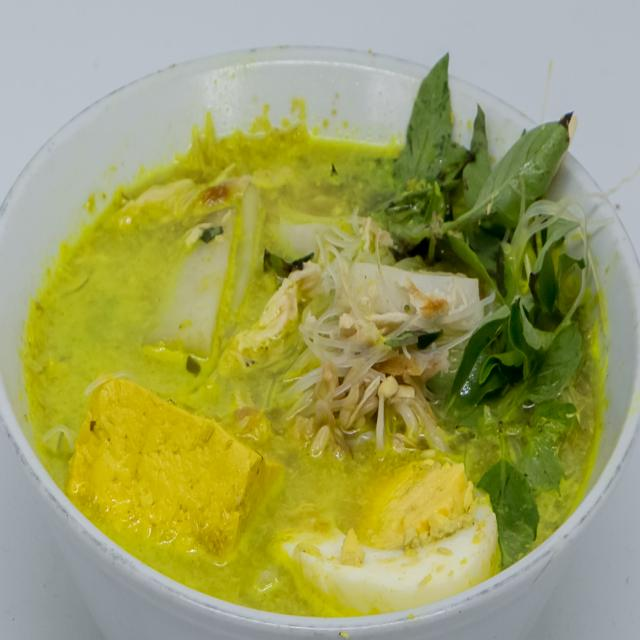Laksa-Bogor: (14, 31, 620, 621)
